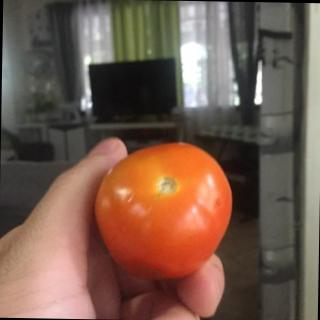Tomat: (87, 128, 253, 286)
